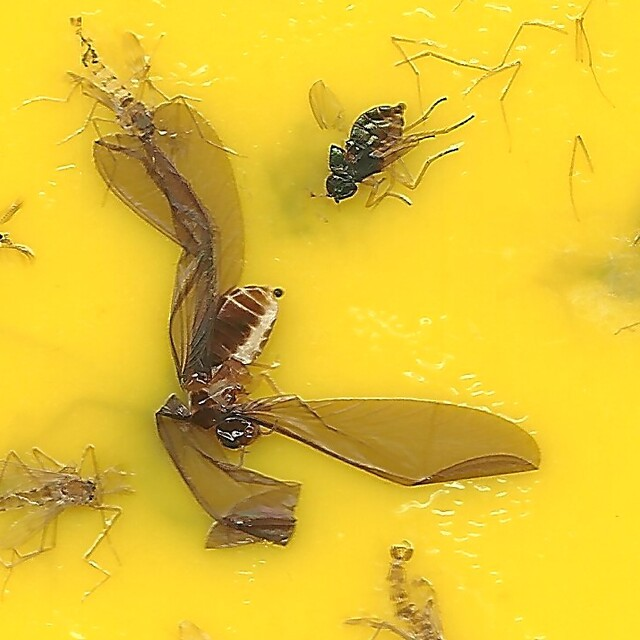Brachycera: (308, 83, 467, 206)
Isoptera: (90, 98, 550, 557)
